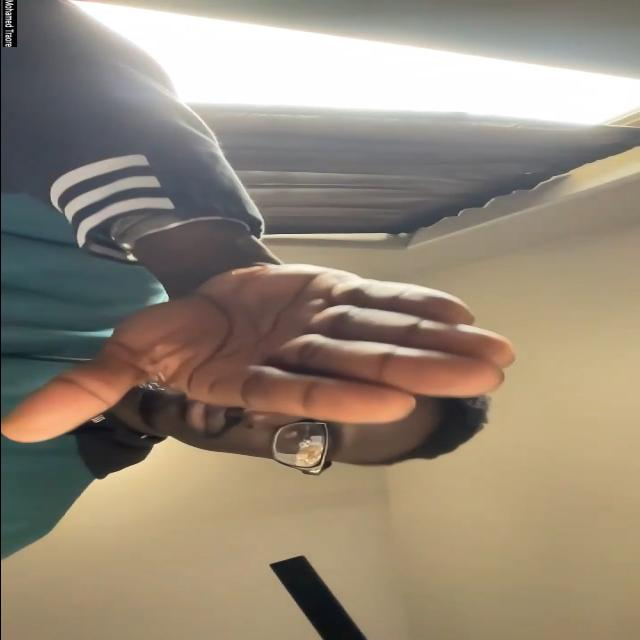Paper: (0, 266, 518, 445)
